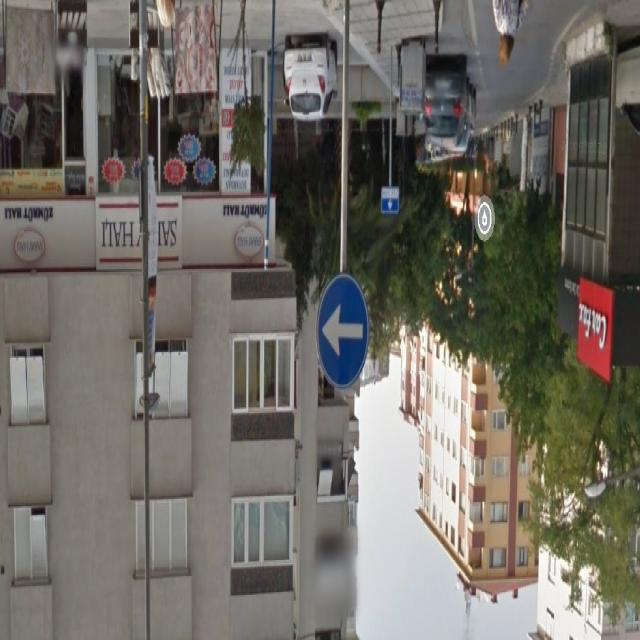Turn Left: (314, 279, 374, 383)
